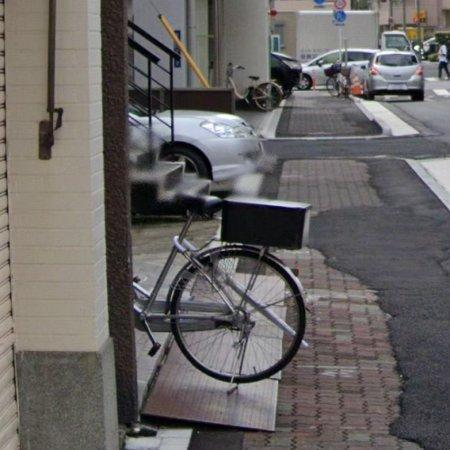bicycles: (133, 197, 306, 383), (227, 62, 284, 111)
